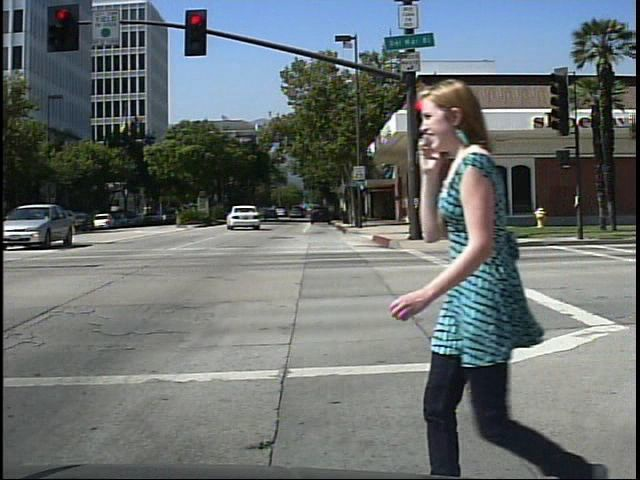person: (389, 77, 607, 480)
